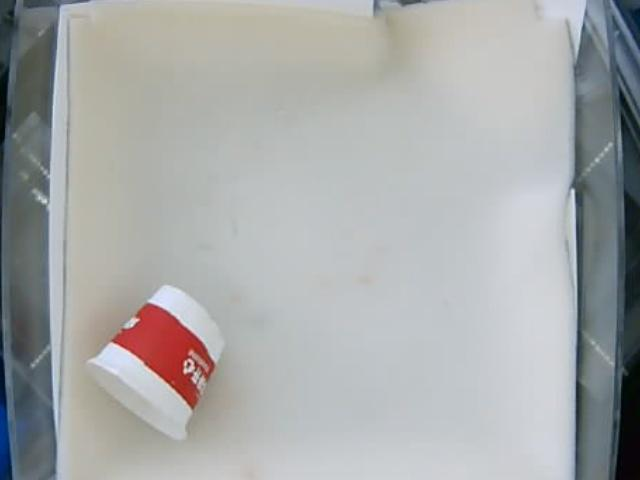Cup: (85, 283, 225, 439)
